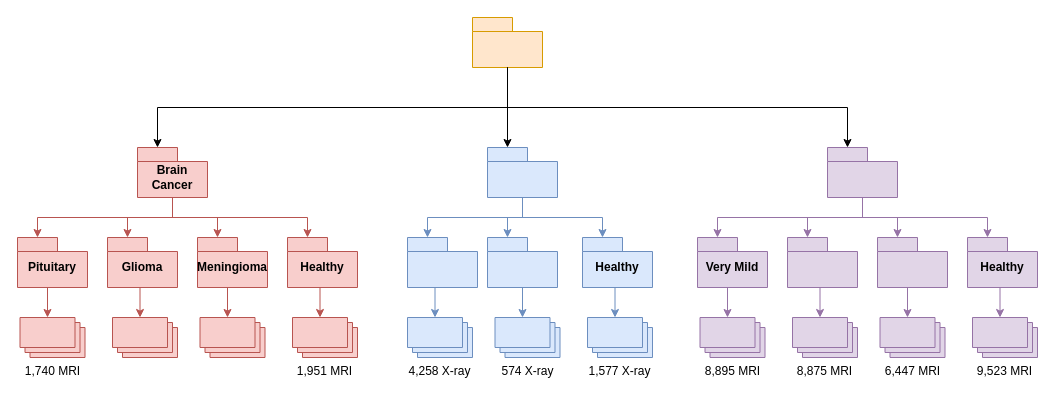
This 1055x396 diagram has some shape labels left out. The shapes that lost their labels are listed below. From the top down, each one's centre as x and y in pixels, then its label:
At [507,42]: "Image Data".
At [522,172]: "Lung Diseases".
At [862,172]: "Alzheimer".
At [442,262]: "Pneumonia".
At [522,262]: "Covid-19".
At [822,262]: "Mild".
At [912,262]: "Moderate".
At [145,337]: "1,615 MRI".
At [232,337]: "1,754 MRI".
